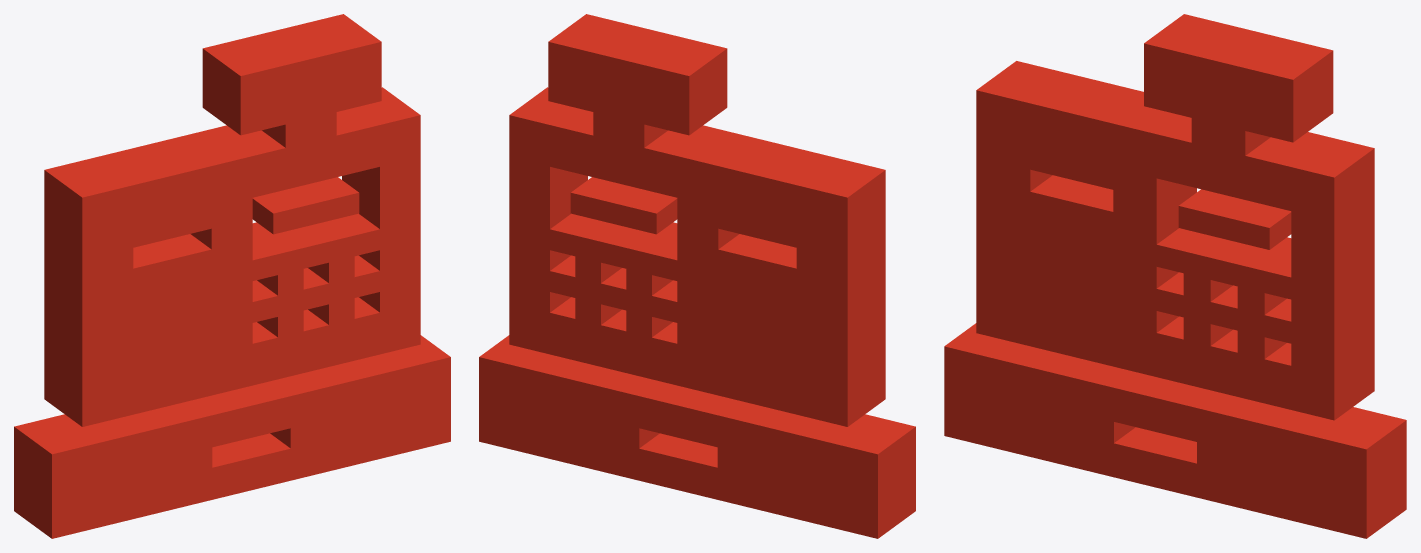
Rendered from Icon_Cashbox.fbx.
3 renders of one model, left to right at view 1: azimuth 30°, elevation 25°; view 2: azimuth 150°, elevation 25°; view 3: azimuth 330°, elevation 25°, orthographic. The views are drawn at different scales.
Visible parts, largest first — view 1: Icon_Cashbox; view 2: Icon_Cashbox; view 3: Icon_Cashbox.
Part boxes in pixels (left/top/right/bottom): Icon_Cashbox: left=14, top=14, right=450, bottom=538; Icon_Cashbox: left=479, top=14, right=915, bottom=538; Icon_Cashbox: left=944, top=14, right=1406, bottom=538.
Size of the model in its own units: 73.15 by 73.04 by 12.06.
